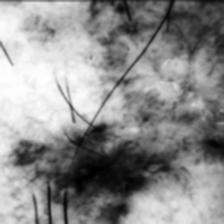Potentially Malignant Skin Tumors: (68, 146, 128, 192)
